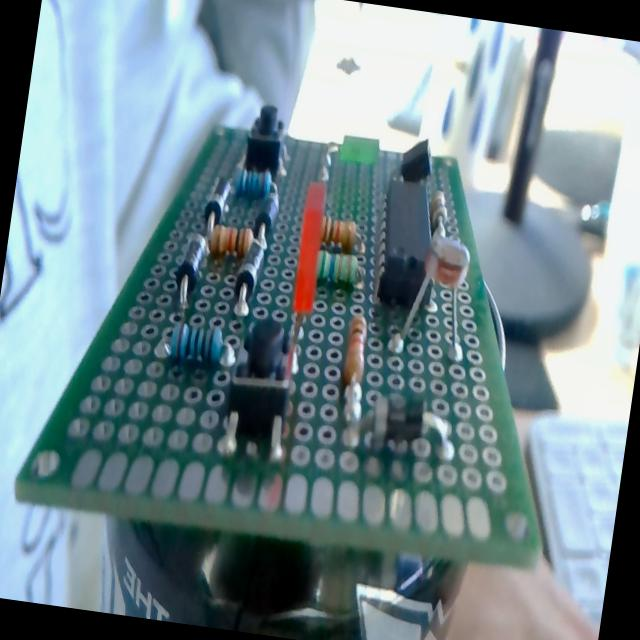IC: (362, 174, 451, 317)
cds: (396, 224, 474, 354)
diode: (346, 389, 458, 465), (172, 232, 208, 298), (234, 236, 268, 305), (203, 175, 232, 228), (256, 186, 282, 234)
led: (278, 182, 331, 400), (320, 128, 384, 188)
resistor: (167, 320, 226, 368), (341, 312, 371, 390), (208, 222, 255, 262), (427, 176, 457, 236), (315, 249, 360, 288), (232, 166, 274, 202), (318, 215, 359, 251)
switch: (218, 314, 304, 454), (242, 102, 288, 175)
transistor: (387, 130, 440, 195)
